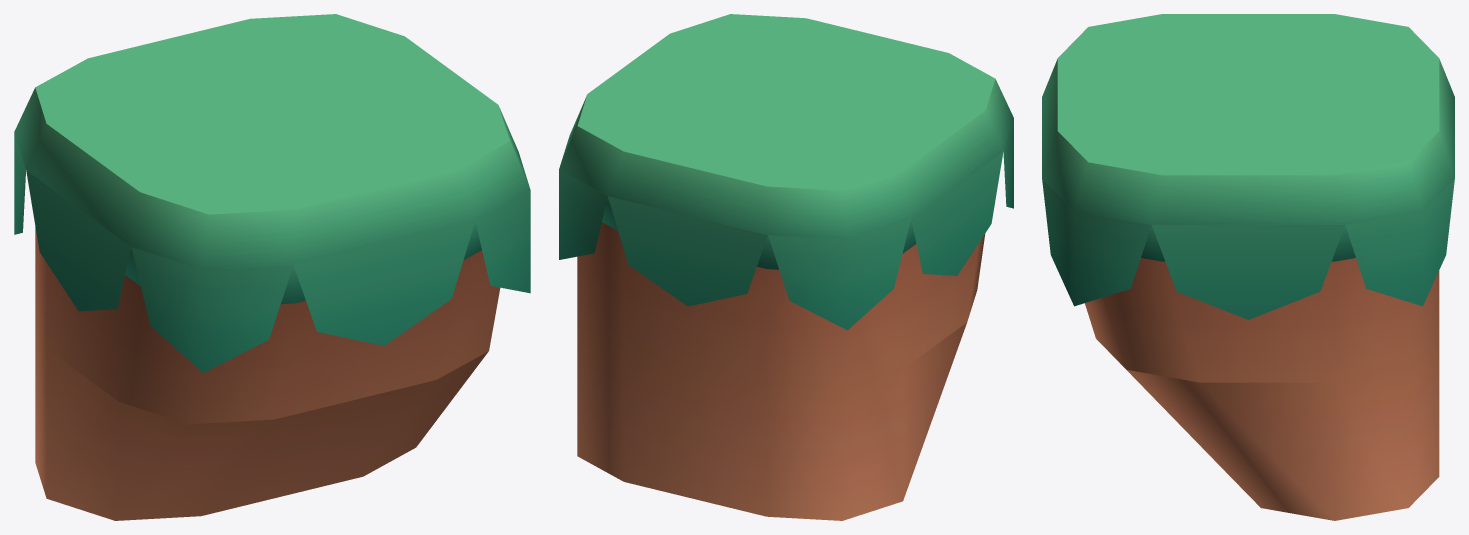
The model's file is kenney-platformer-block-grass-overhang-edge.glb.
3 views of the same model, side by side, from view 1: azimuth 30°, elevation 25°; view 2: azimuth 150°, elevation 25°; view 3: azimuth 270°, elevation 25° (orthographic). The views are drawn at different scales.
Visible parts, largest first — view 1: block-grass-overhang-edge; view 2: block-grass-overhang-edge; view 3: block-grass-overhang-edge.
Part boxes in pixels (left/top/right/bottom): block-grass-overhang-edge: left=14, top=14, right=530, bottom=520; block-grass-overhang-edge: left=559, top=14, right=1013, bottom=520; block-grass-overhang-edge: left=1042, top=14, right=1454, bottom=520.
Size of the model in its own units: 1.08 by 1 by 1.08.
Materials: 1 (1 with a texture image).
